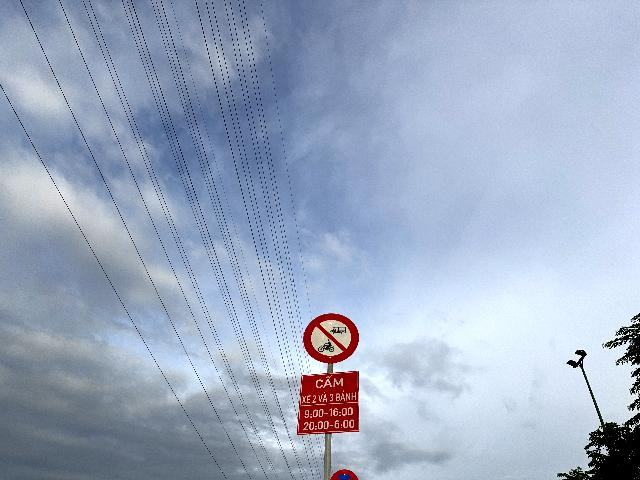cam-xe-2-banh-3-banh: (303, 313, 360, 363)
